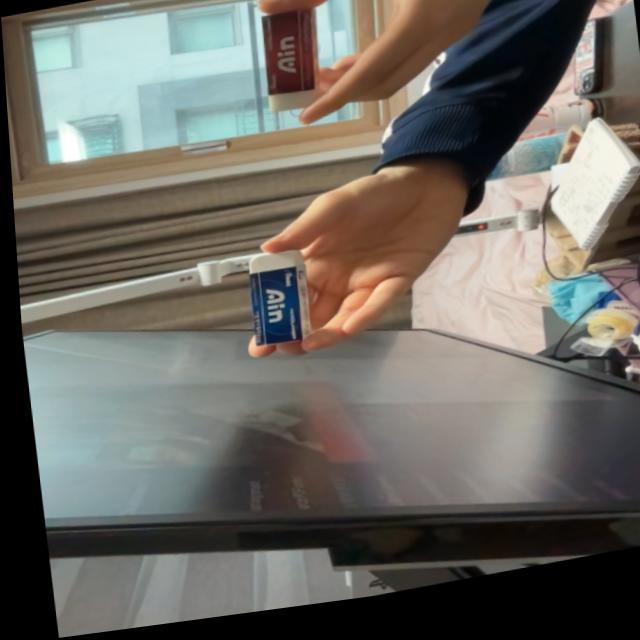blue: (237, 250, 311, 357)
red: (249, 7, 326, 124)
